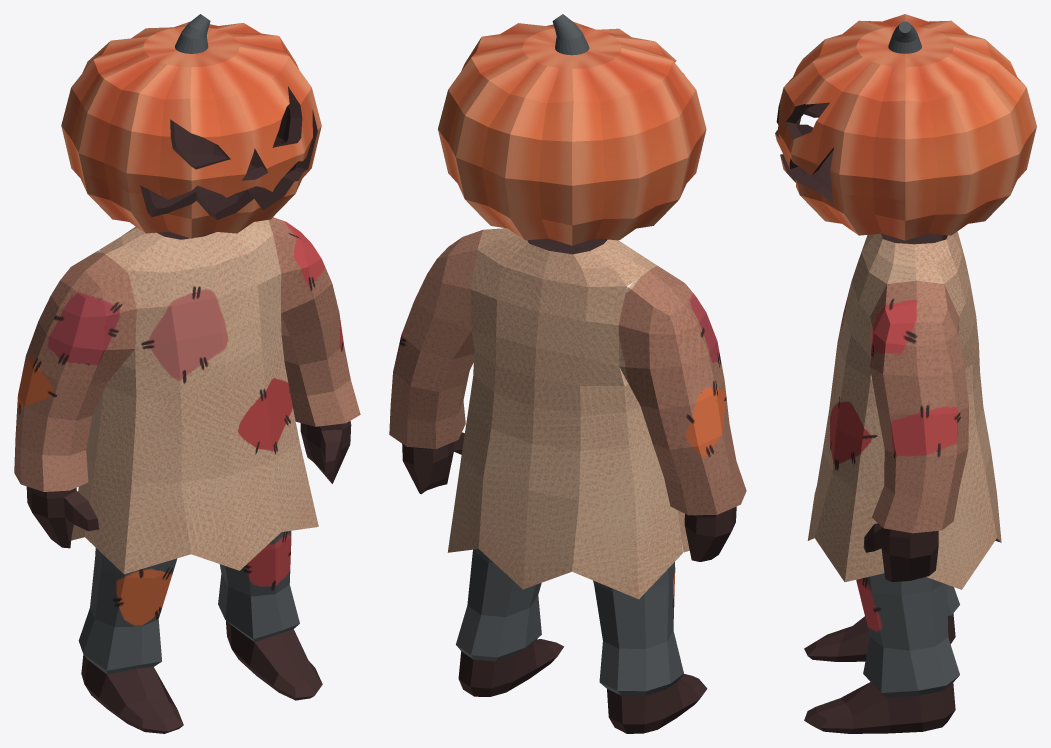
The model's file is pumpkinhead.fbx.
3 views of the same model, side by side, from view 1: azimuth 30°, elevation 25°; view 2: azimuth 150°, elevation 25°; view 3: azimuth 270°, elevation 25° (orthographic). The views are drawn at different scales.
Visible parts, largest first — view 1: PumpkinHead; view 2: PumpkinHead; view 3: PumpkinHead.
Part boxes in pixels (box(x1,y1,x2,y2)): PumpkinHead: box(14, 14, 360, 733); PumpkinHead: box(389, 14, 746, 733); PumpkinHead: box(775, 14, 1036, 733).
Bounding box in the file's own units: 311 × 592 × 208.
